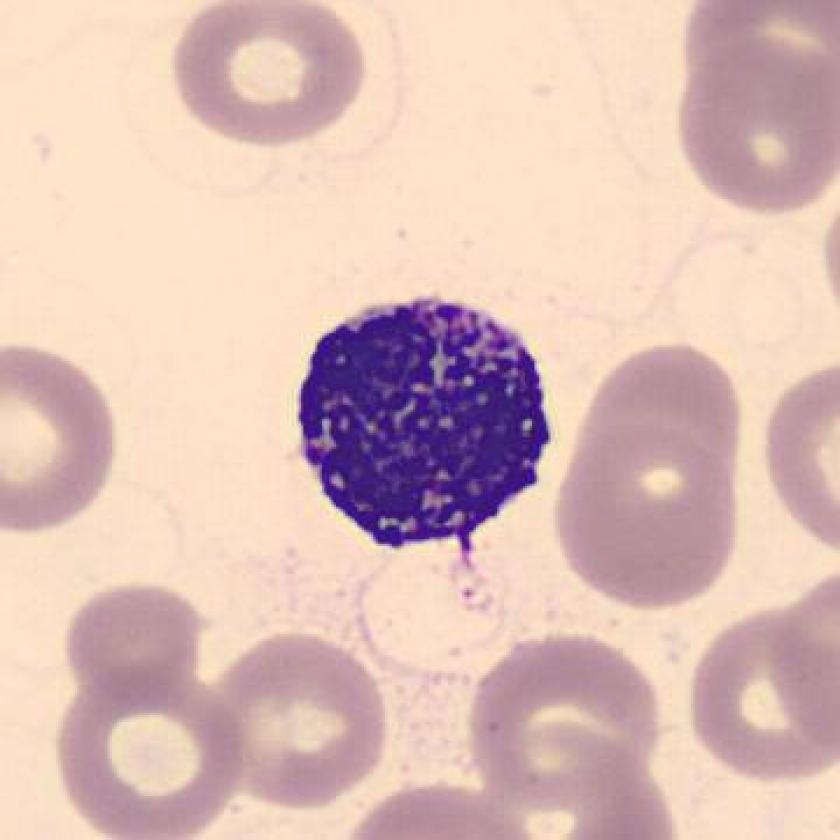basophil: (298, 290, 564, 566)
